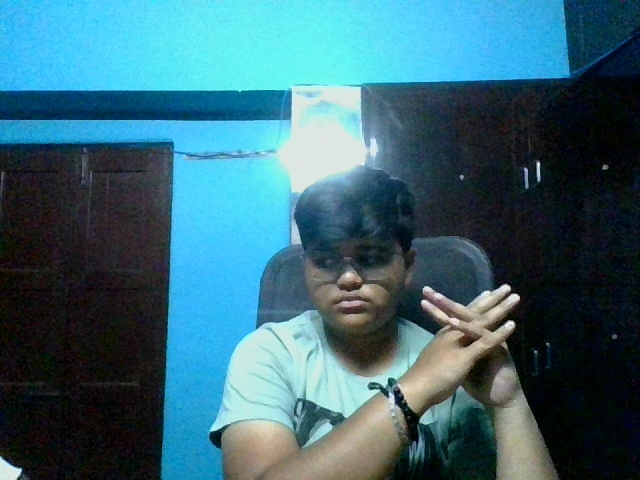W: (413, 278, 532, 420)
